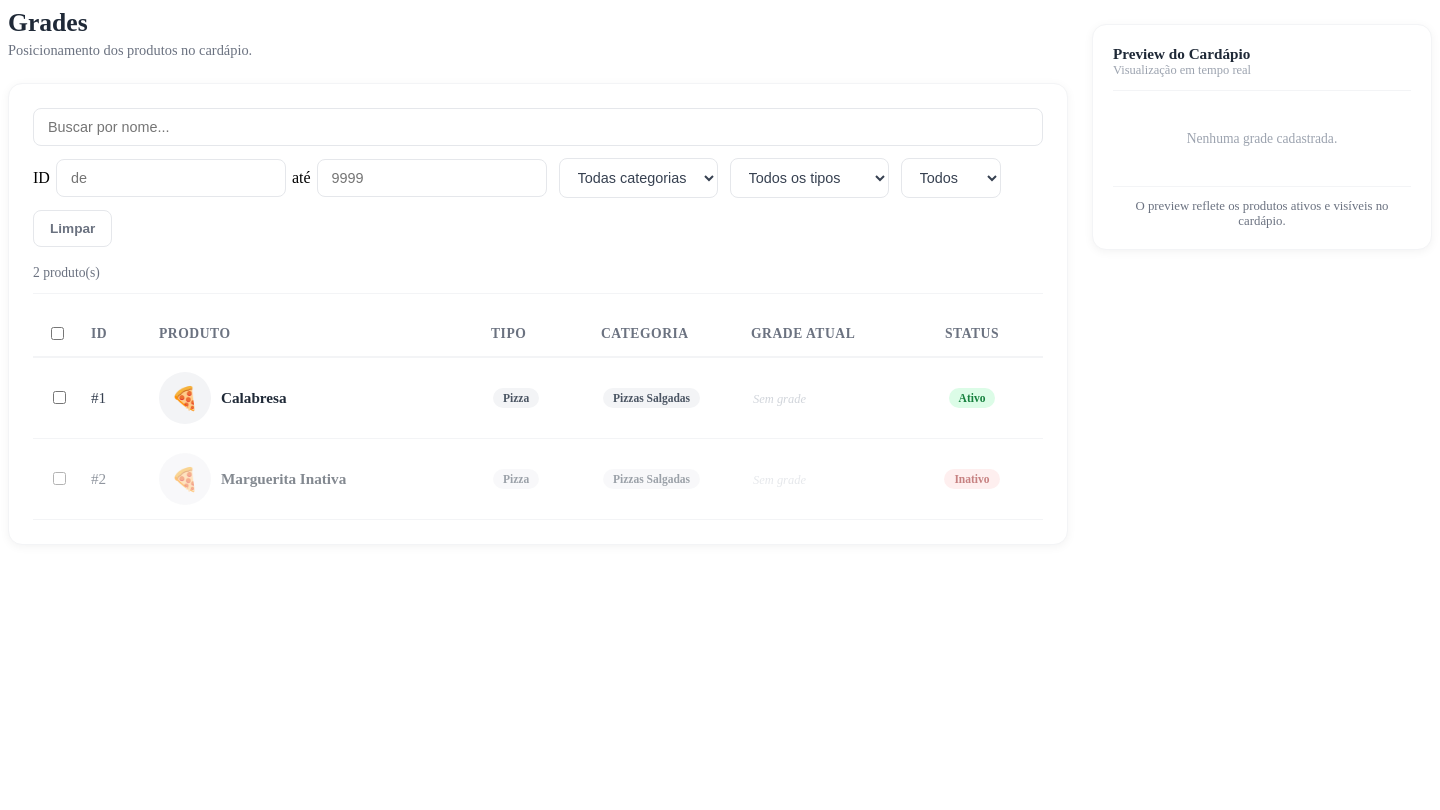
it: AdminGrades › move os selecionados pra grade escolhida e limpa a seleção
Expected: the text "Calabresa" is shown, x1=221 y1=389 x2=286 y2=406
Click the checkbox in the row of "Calabresa".
click(60, 398)  # box x1=53 y1=391 x2=66 y2=404
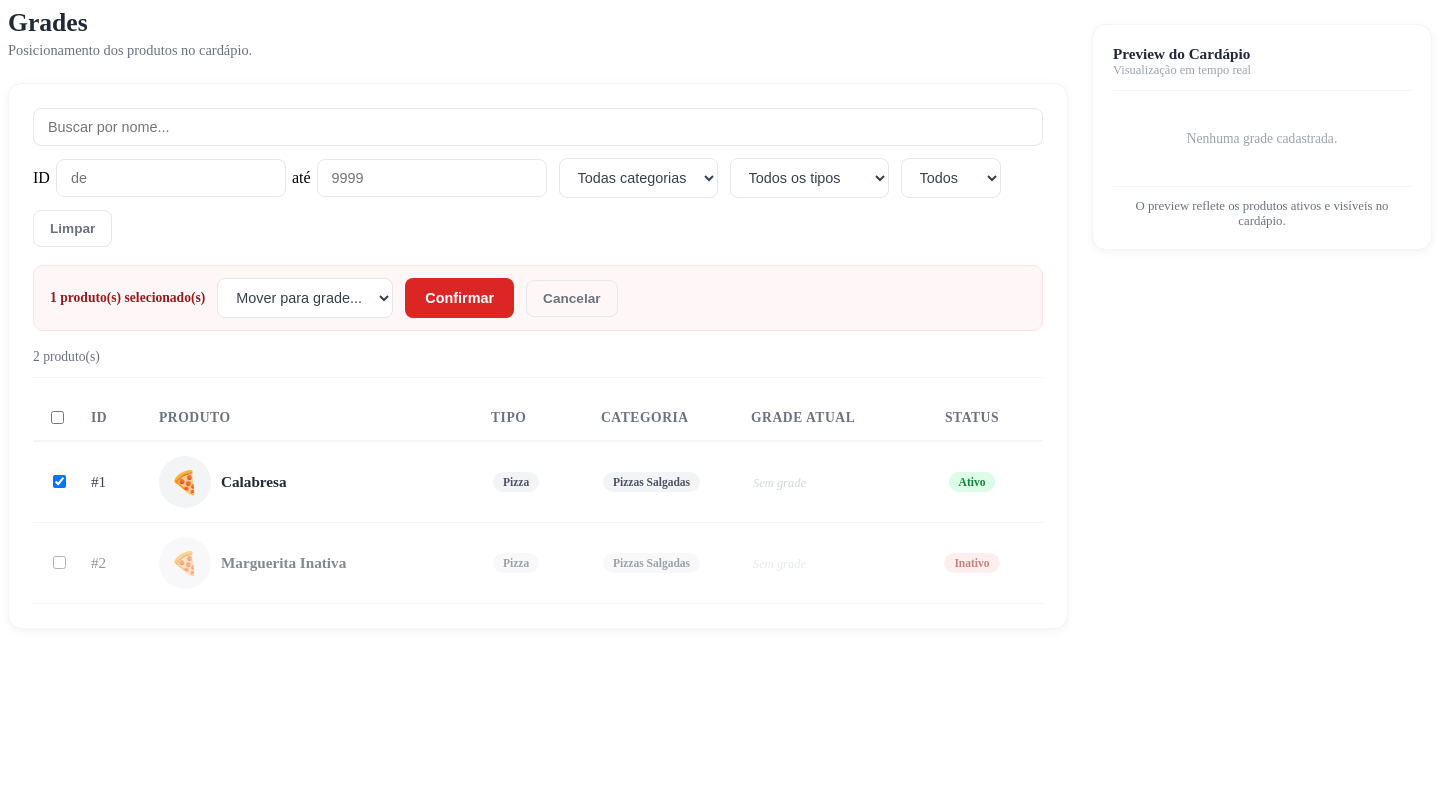
Select "Primeira — Pos. 1" in the dropdown next to "produto(s) selecionado(s)" at (305, 298), box x1=217 y1=278 x2=393 y2=318
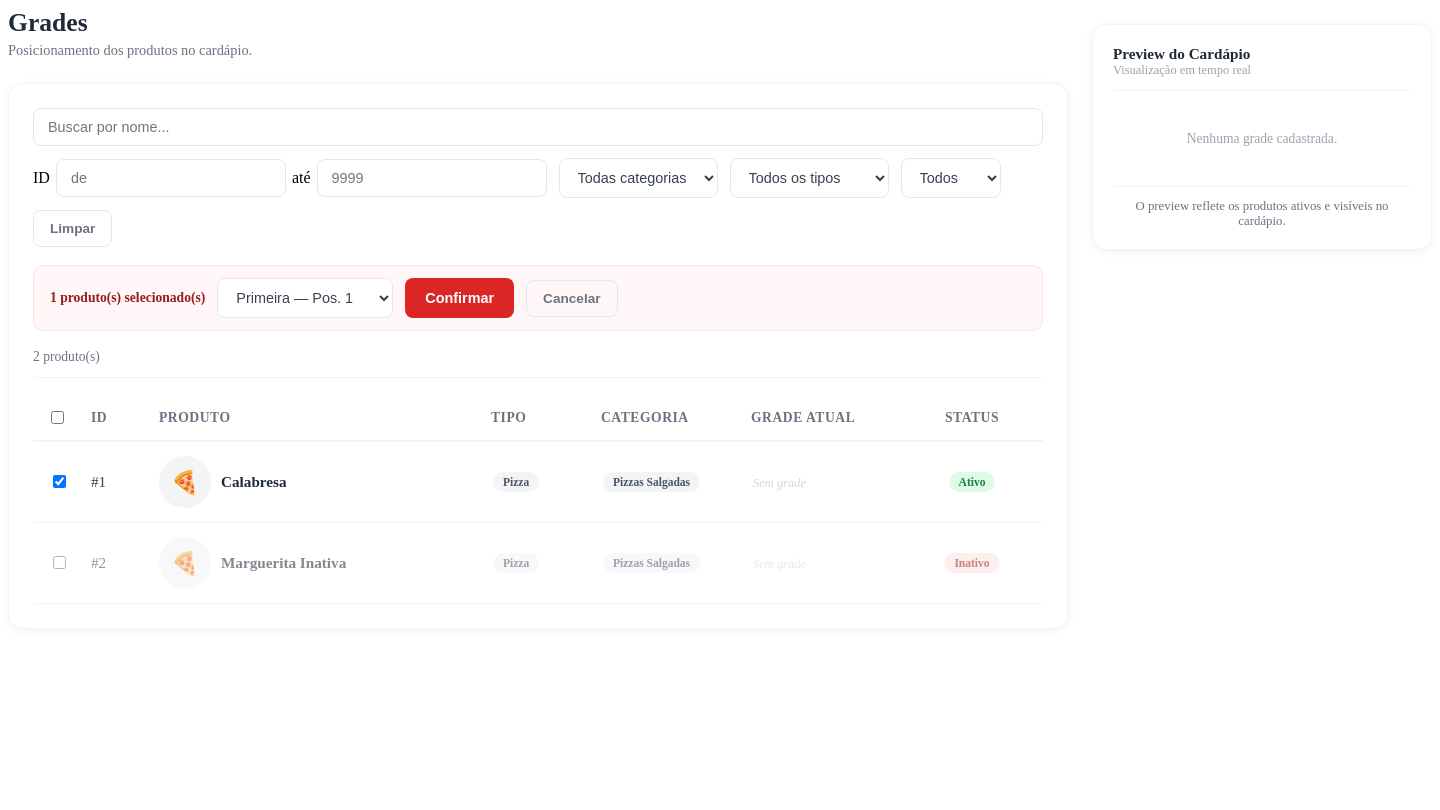
Click the button "Confirmar".
click(460, 298)  # box x1=405 y1=278 x2=514 y2=318
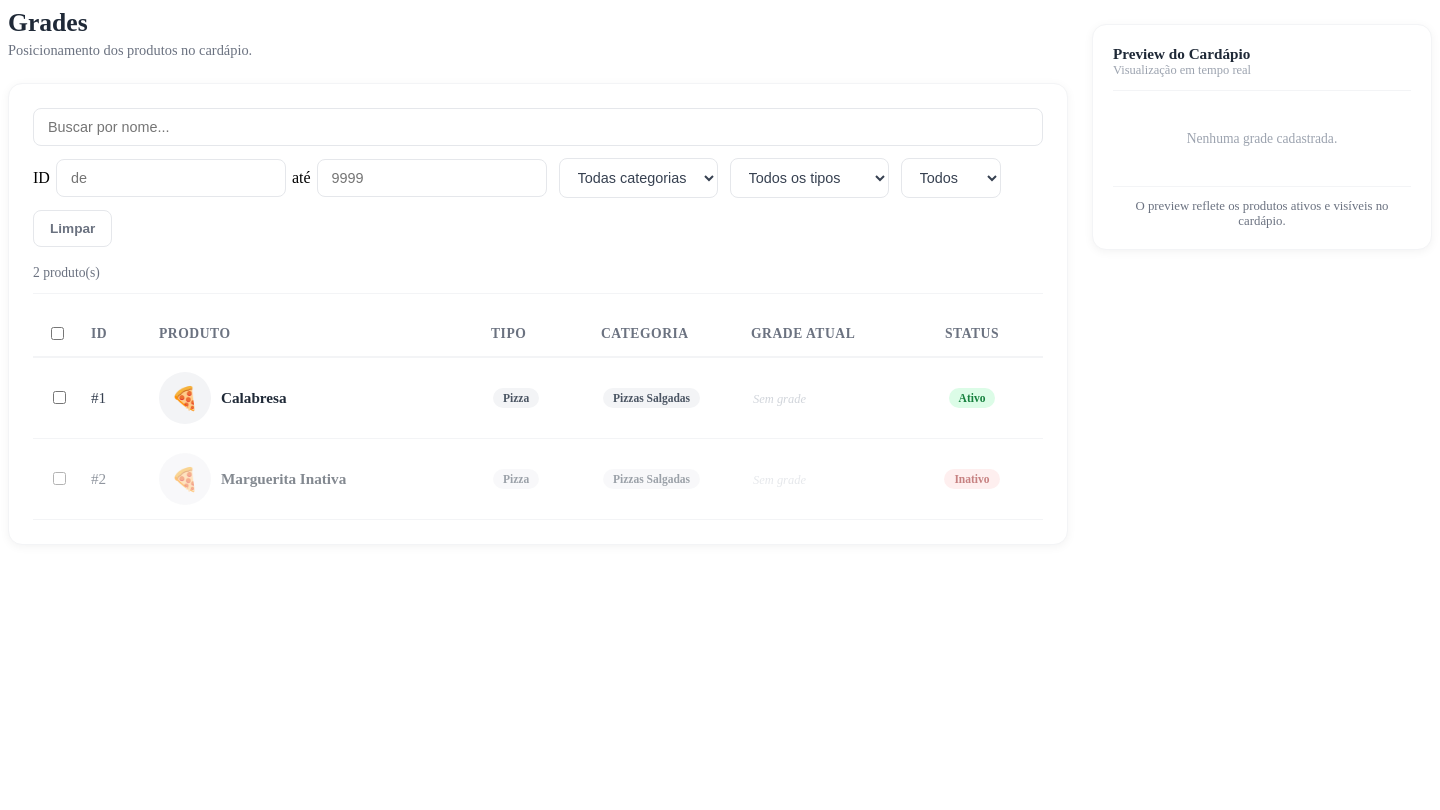
Expected: the text "produto(s) selecionado(s)" is gone
